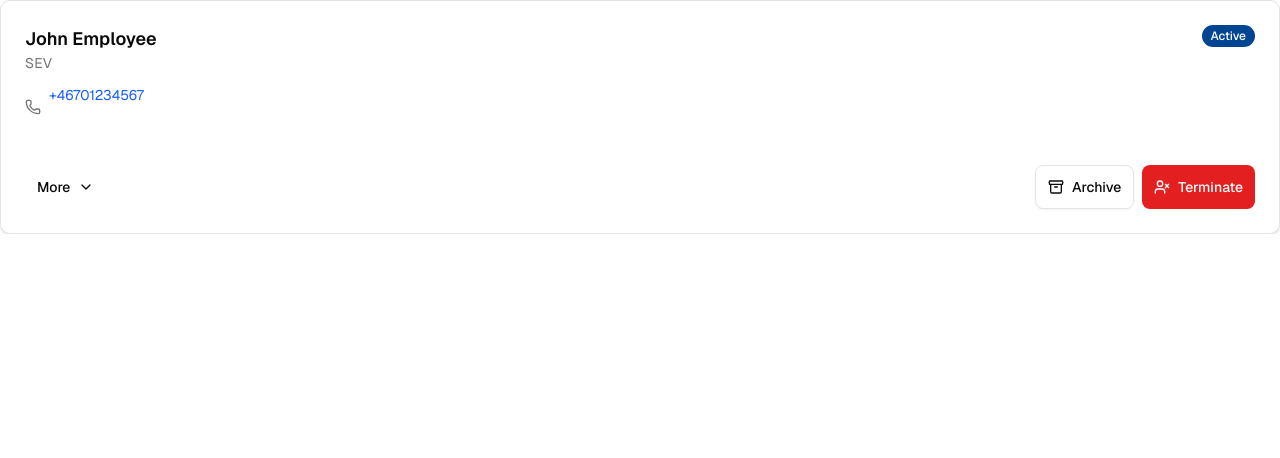
Test: EmployeeCard - Field Visibility and Permissions › AC2: Field Visibility and Permissions Tests › should show appropriate placeholder for empty/null fields
The image size is (1280, 458).
Click the button with aria-label "Expand details".
click(66, 187)  # box [25,165,106,209]
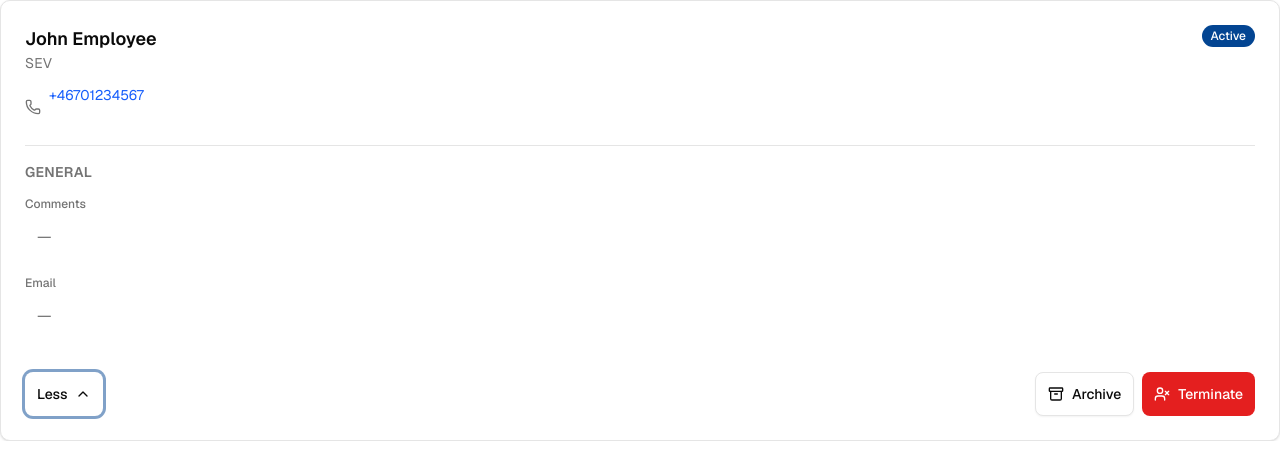
Expected: the text "Comments" is shown, [25,196,86,212]
Expected: the text "Email" is shown, [25,275,56,291]
